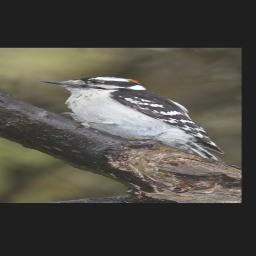Woodpecker: (40, 76, 224, 163)
